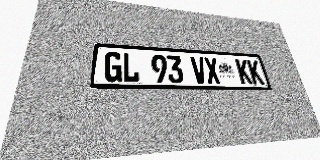3: (166, 55, 184, 83)
9: (151, 54, 168, 83)
G: (104, 52, 122, 82)
K: (235, 59, 253, 84), (247, 60, 264, 84)
L: (122, 53, 140, 82)
V: (190, 57, 208, 83)
X: (203, 57, 221, 84)
